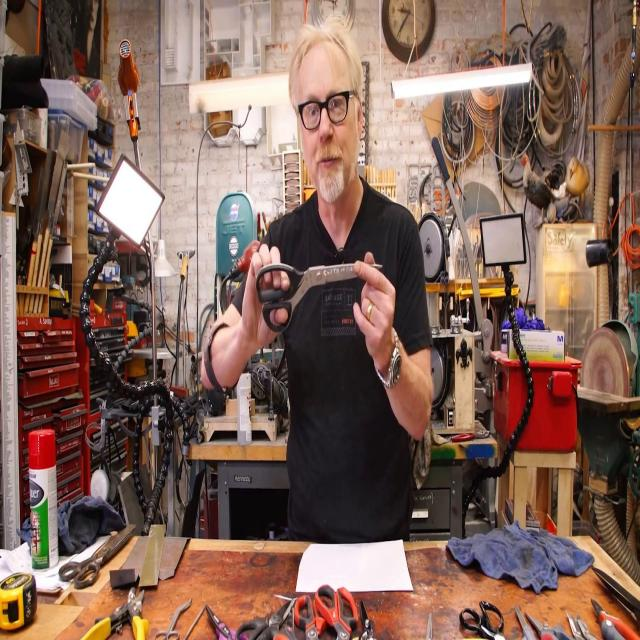scissor: (256, 265, 382, 331), (59, 524, 136, 589), (235, 598, 294, 640), (315, 583, 357, 640), (593, 566, 640, 616), (590, 599, 640, 639), (460, 601, 505, 640), (294, 595, 332, 640), (205, 604, 248, 640), (524, 611, 574, 640), (351, 600, 375, 640), (273, 605, 295, 640), (515, 605, 536, 640)
